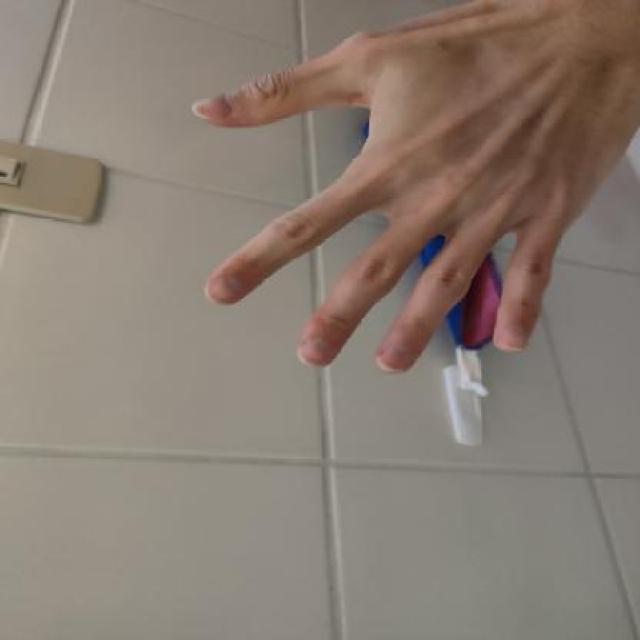bare_hand: (163, 0, 640, 399)
